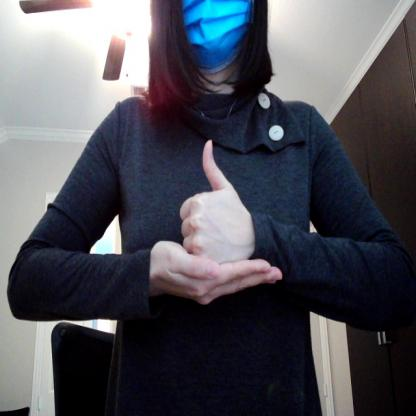help: (154, 140, 289, 307)
